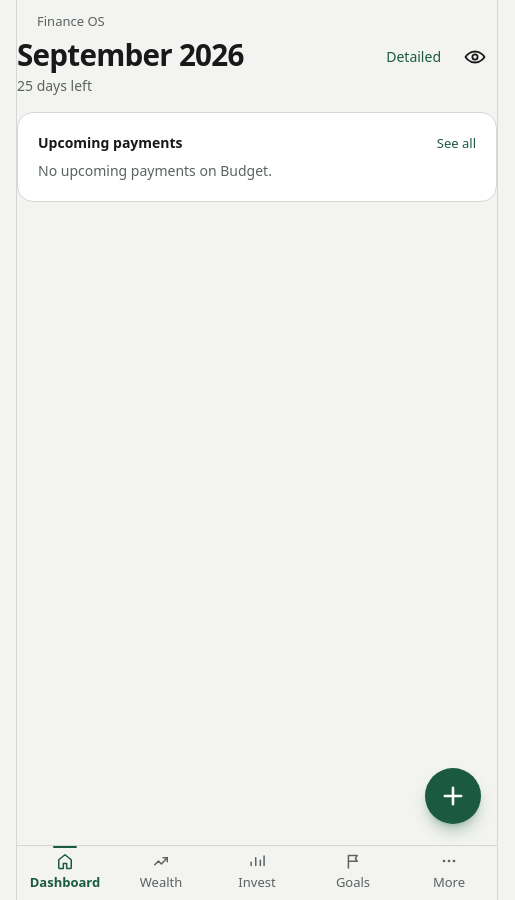
wealth › updates rings and the example split when Savings target goes 10k → 30k without posting ledger
Click the tab "Wealth": click(161, 871) [140,851,182,891]
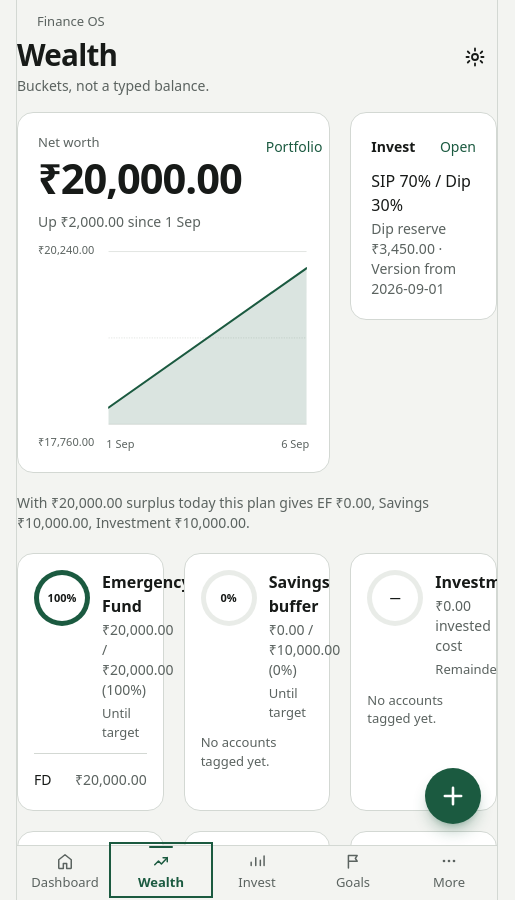
Click the link named "Edit bucket rules": click(475, 57) [463,45,487,69]
(page scrolled)
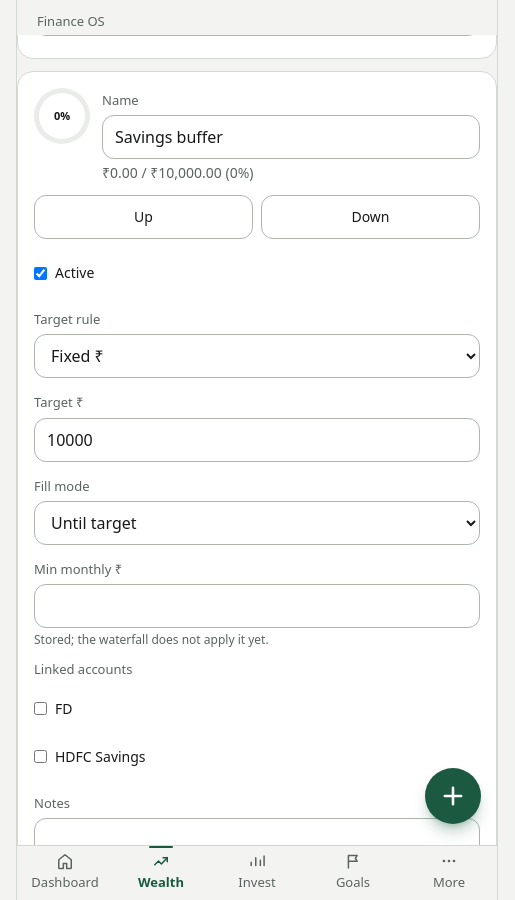
Replace the text in the field named "Savings buffer target rupees" with "30000": (257, 440) [34,418,480,462]
(page scrolled)
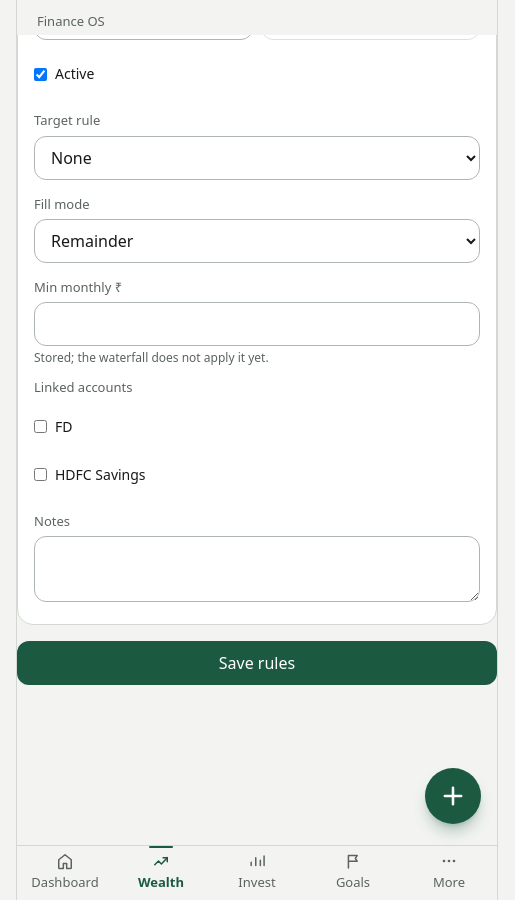
Click the button "Save rules": click(257, 663) [17,641,497,685]
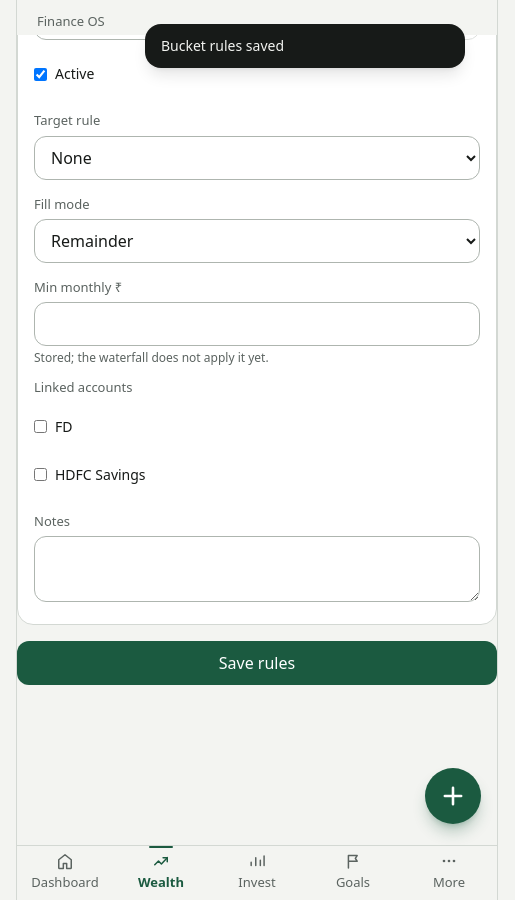
Result: the text "Bucket rules saved" is shown at [145,24,465,68]
